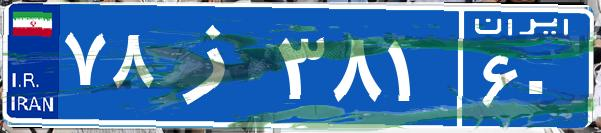0: (525, 38, 570, 115)
1: (385, 28, 445, 110)
3: (273, 28, 330, 110)
6: (475, 38, 525, 113)
7: (57, 26, 110, 107)
8: (330, 28, 385, 110), (110, 28, 158, 105)
ز: (158, 15, 273, 115)
